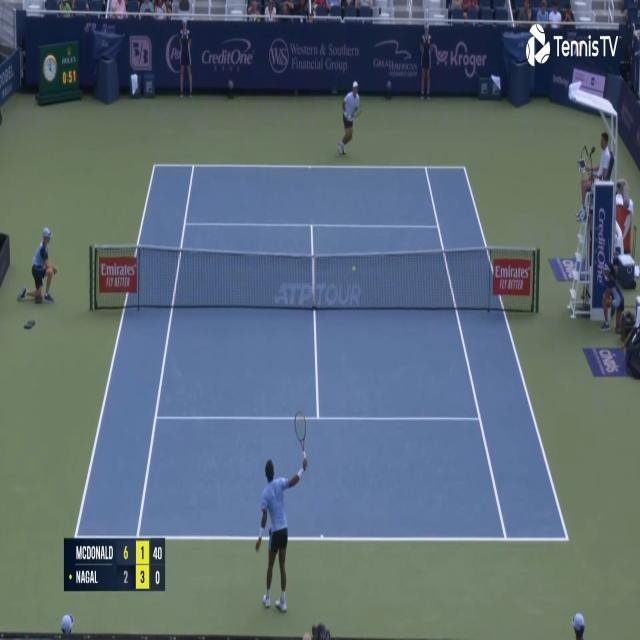tennis-player: (252, 454, 310, 615), (336, 77, 362, 158)
